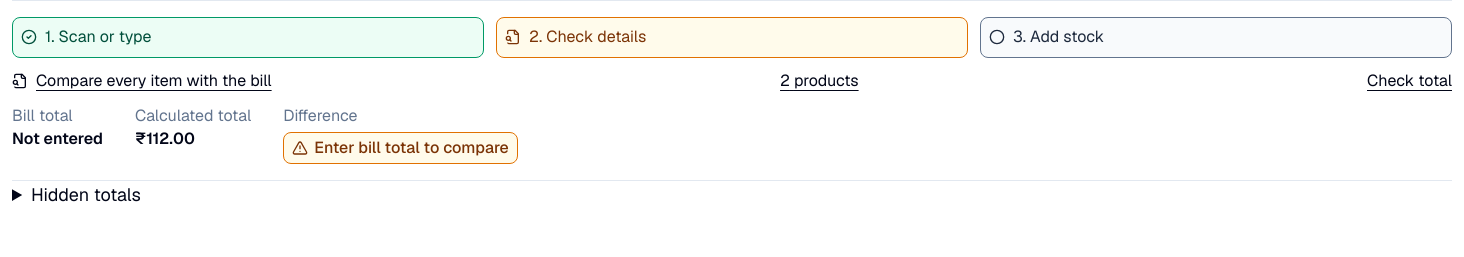
Test: opens a collapsed correction target and moves keyboard focus to it
Click the link "Check total": {"x": 1410, "y": 81} [1367,70,1452,93]
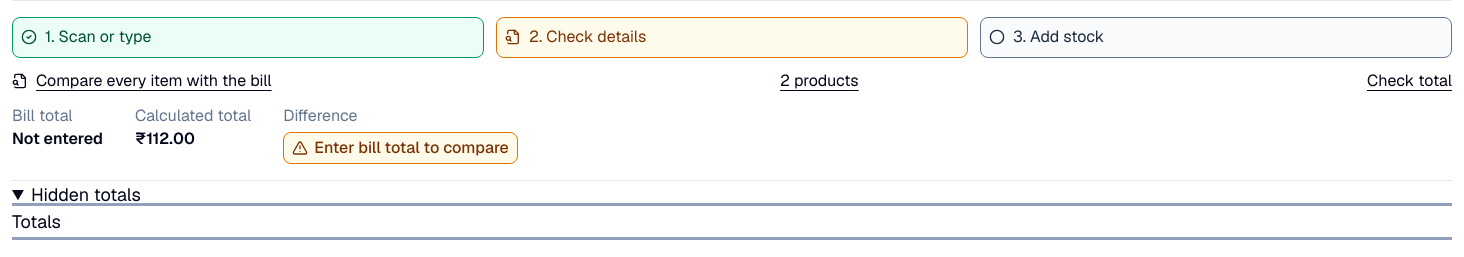
expect the heading "Totals" is shown: met, box [12,210,61,233]
